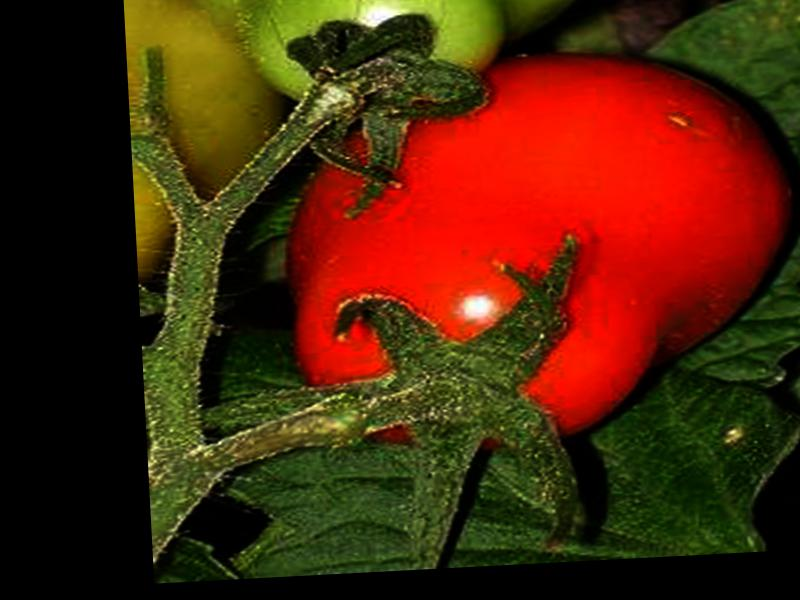Tomato: (281, 42, 800, 458)
